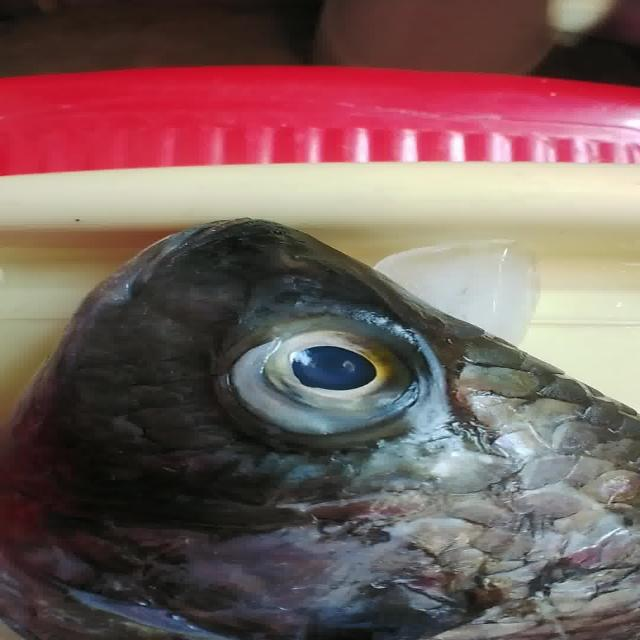Fresh: (195, 300, 456, 452)
